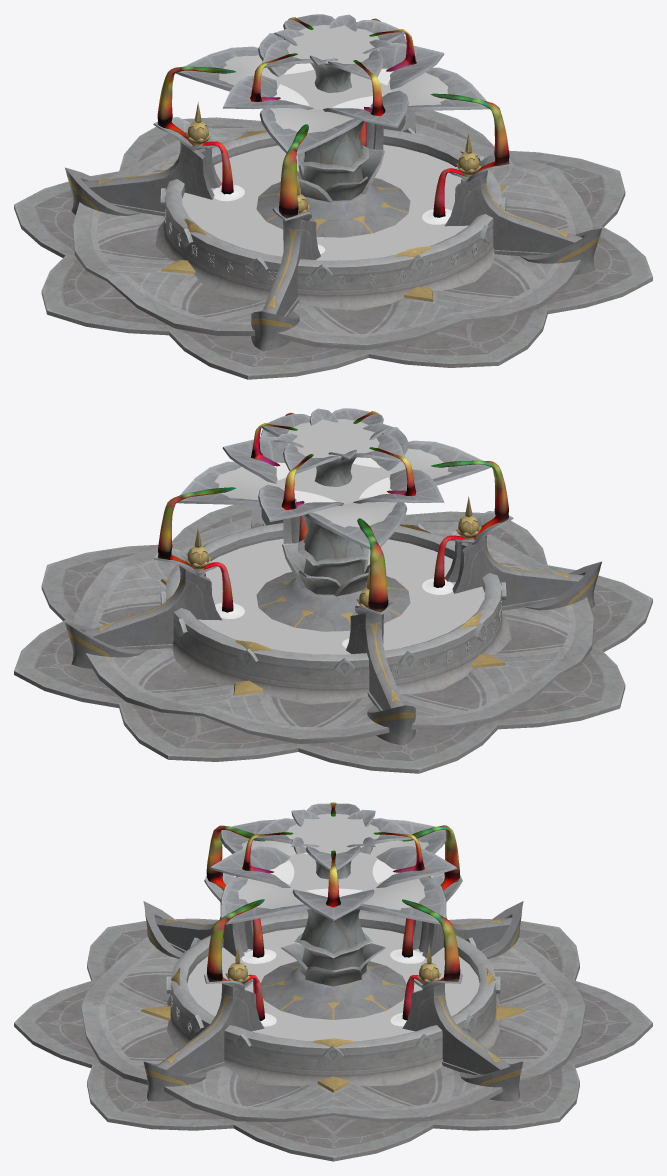
Rendered from Homeworld_Exterior_Xm_Decoration_Prop_Jlypenquan_01_Lod0.fbx.
The picture shows the model from 3 angles, top to bottom: view 1: azimuth 30°, elevation 25°; view 2: azimuth 150°, elevation 25°; view 3: azimuth 270°, elevation 25°; orthographic projection. The views are drawn at different scales.
Parts seen in each view (by area): view 1: Area_Xm_Prop_XKC_Jlypenquan_01_Lod0, Eff_Stages_WaterPlane_Xm_XKC_Jlypenquan_01_Vo, Eff_Stages_WaterFall_Xm_XKC_Jlypenquan_01_Vo, WaterRipple_01, Area_Xm_Prop_XKC_Jlypenquan_02_Lod0, WaterRipple_02; view 2: Area_Xm_Prop_XKC_Jlypenquan_01_Lod0, Eff_Stages_WaterPlane_Xm_XKC_Jlypenquan_01_Vo, Eff_Stages_WaterFall_Xm_XKC_Jlypenquan_01_Vo, WaterRipple_01, WaterRipple_02; view 3: Area_Xm_Prop_XKC_Jlypenquan_01_Lod0, Eff_Stages_WaterPlane_Xm_XKC_Jlypenquan_01_Vo, Eff_Stages_WaterFall_Xm_XKC_Jlypenquan_01_Vo, WaterRipple_01, WaterRipple_02.
Part boxes in pixels (x1,y1,x2,y2): Area_Xm_Prop_XKC_Jlypenquan_01_Lod0: [14, 14, 652, 379]; Eff_Stages_WaterPlane_Xm_XKC_Jlypenquan_01_Vo: [182, 25, 468, 260]; Eff_Stages_WaterFall_Xm_XKC_Jlypenquan_01_Vo: [157, 17, 509, 220]; WaterRipple_01: [273, 63, 393, 109]; Area_Xm_Prop_XKC_Jlypenquan_02_Lod0: [165, 210, 491, 288]; WaterRipple_02: [213, 184, 451, 253]; Area_Xm_Prop_XKC_Jlypenquan_01_Lod0: [14, 408, 652, 773]; Eff_Stages_WaterPlane_Xm_XKC_Jlypenquan_01_Vo: [198, 419, 484, 654]; Eff_Stages_WaterFall_Xm_XKC_Jlypenquan_01_Vo: [158, 411, 508, 612]; WaterRipple_01: [274, 457, 392, 503]; WaterRipple_02: [215, 578, 453, 647]; Area_Xm_Prop_XKC_Jlypenquan_01_Lod0: [14, 803, 652, 1161]; Eff_Stages_WaterPlane_Xm_XKC_Jlypenquan_01_Vo: [187, 814, 479, 1041]; Eff_Stages_WaterFall_Xm_XKC_Jlypenquan_01_Vo: [206, 802, 460, 1020]; WaterRipple_01: [268, 852, 399, 897]; WaterRipple_02: [241, 949, 424, 1026].
Size of what is drawn, in the model's own units: 13.83 by 4.77 by 13.83.
7 materials, 2 textured.
